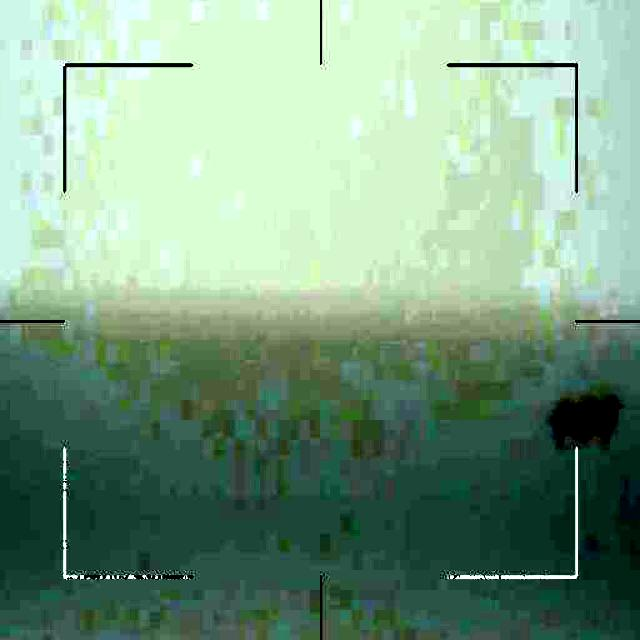bird: (550, 398, 619, 448)
